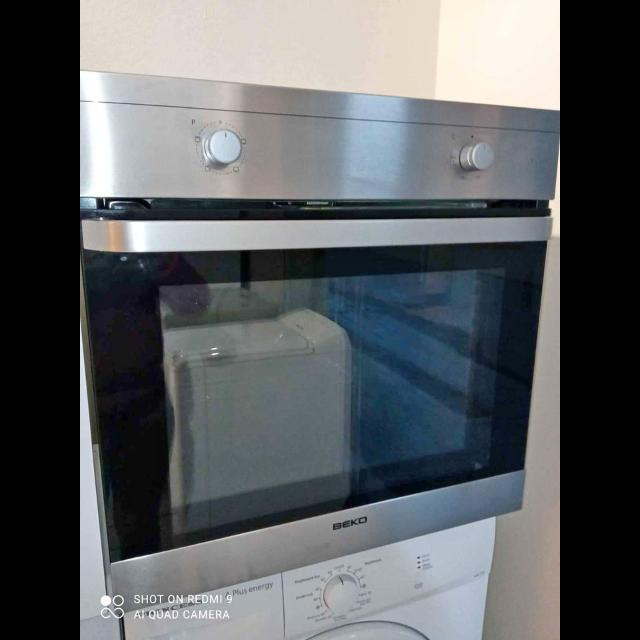Oven: (81, 69, 541, 552)
